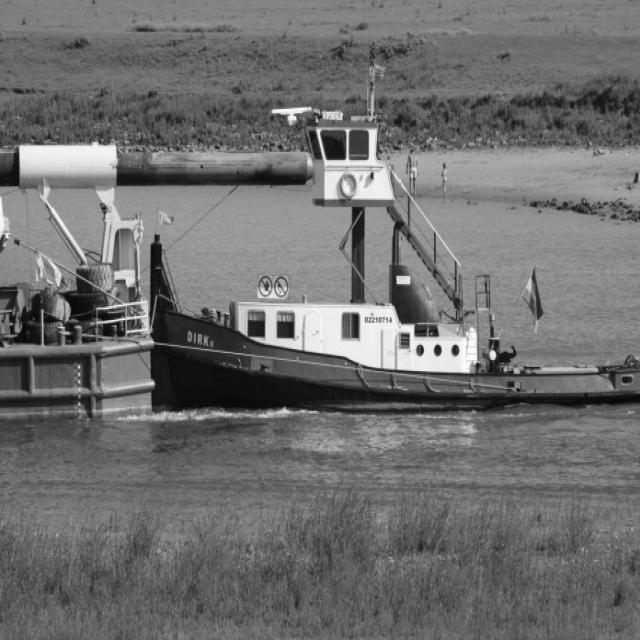tugboat: (146, 101, 640, 421)
